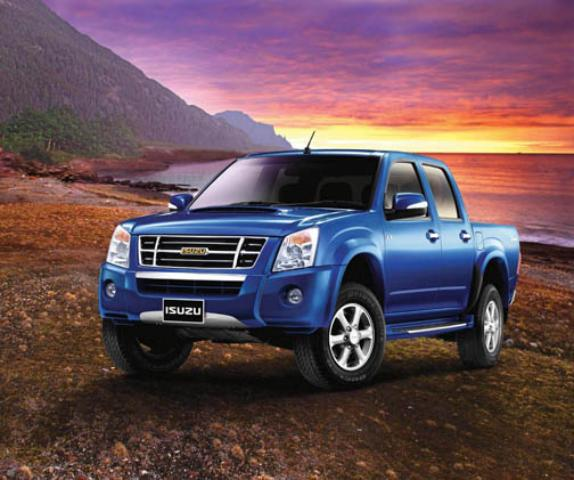pickup-truck: (98, 148, 523, 385)
